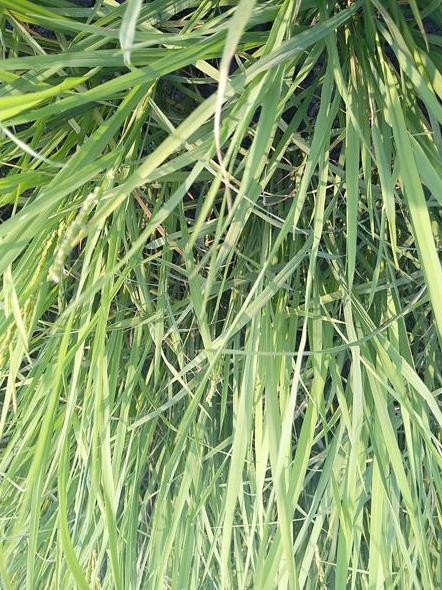Leaf Blight: (215, 0, 256, 211)
